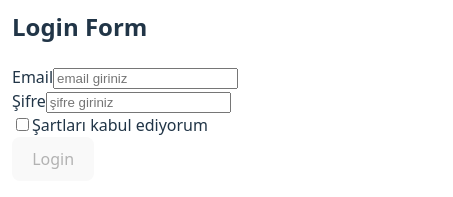
Login Form › Başarılı form doldurulduğunda success sayfasına gider
Type "test@test.com" into the field with test id "email-input".
click(146, 79); type("test@test.com")  # box [53,68,238,89]
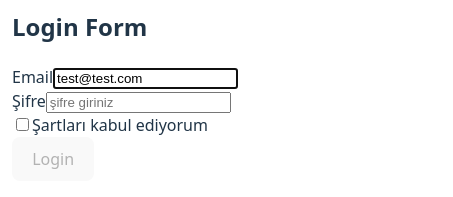
Type "Strong123" into the password field with test id "password-input".
click(139, 103); type("Strong123")  # box [46,92,231,113]
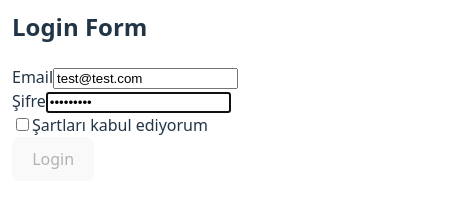
Check the checkbox with test id "checkbox".
click(23, 125)  # box [16,118,29,131]
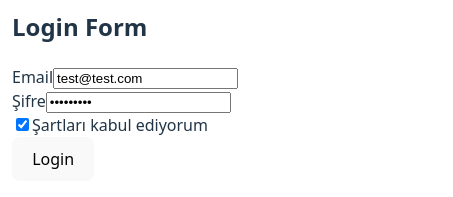
Expected: the element with test id "login-button" is enabled
Click the button with test id "login-button".
click(53, 159)  # box [12,137,94,180]
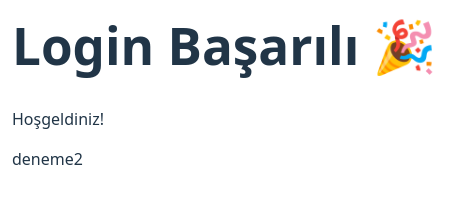
Now the heading "Login Başarılı 🎉" is shown, box [12,17,436,73]
